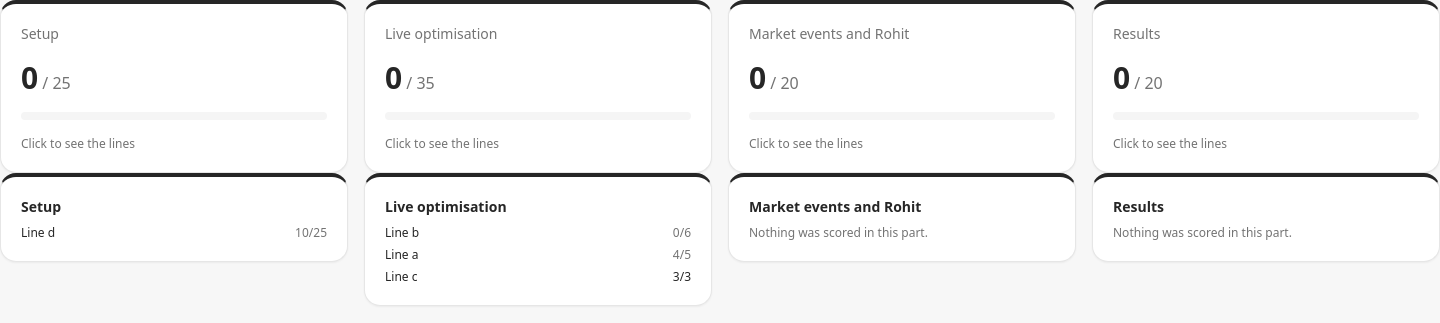
Test: PartCards › deals one card per v2 part and flips a card to its lines
The image size is (1440, 323).
Click the button "Live optimisation": coordinates (538, 153) [364,0,712,306]
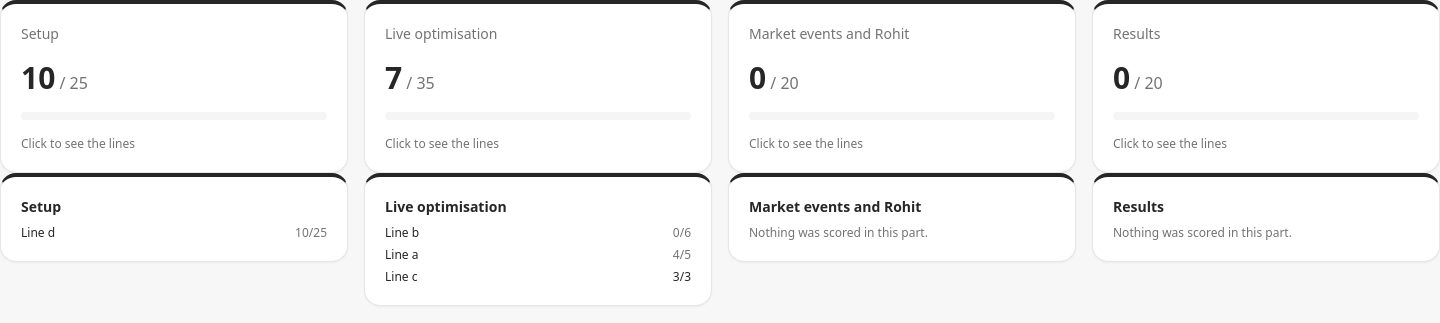
Expected: the text "Line b" is shown, [385,225,419,241]
Now the button "Live optimisation" is pressed, box [364,0,712,306]
